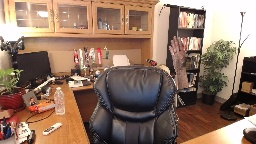Mano_aperta: (166, 34, 189, 72)
